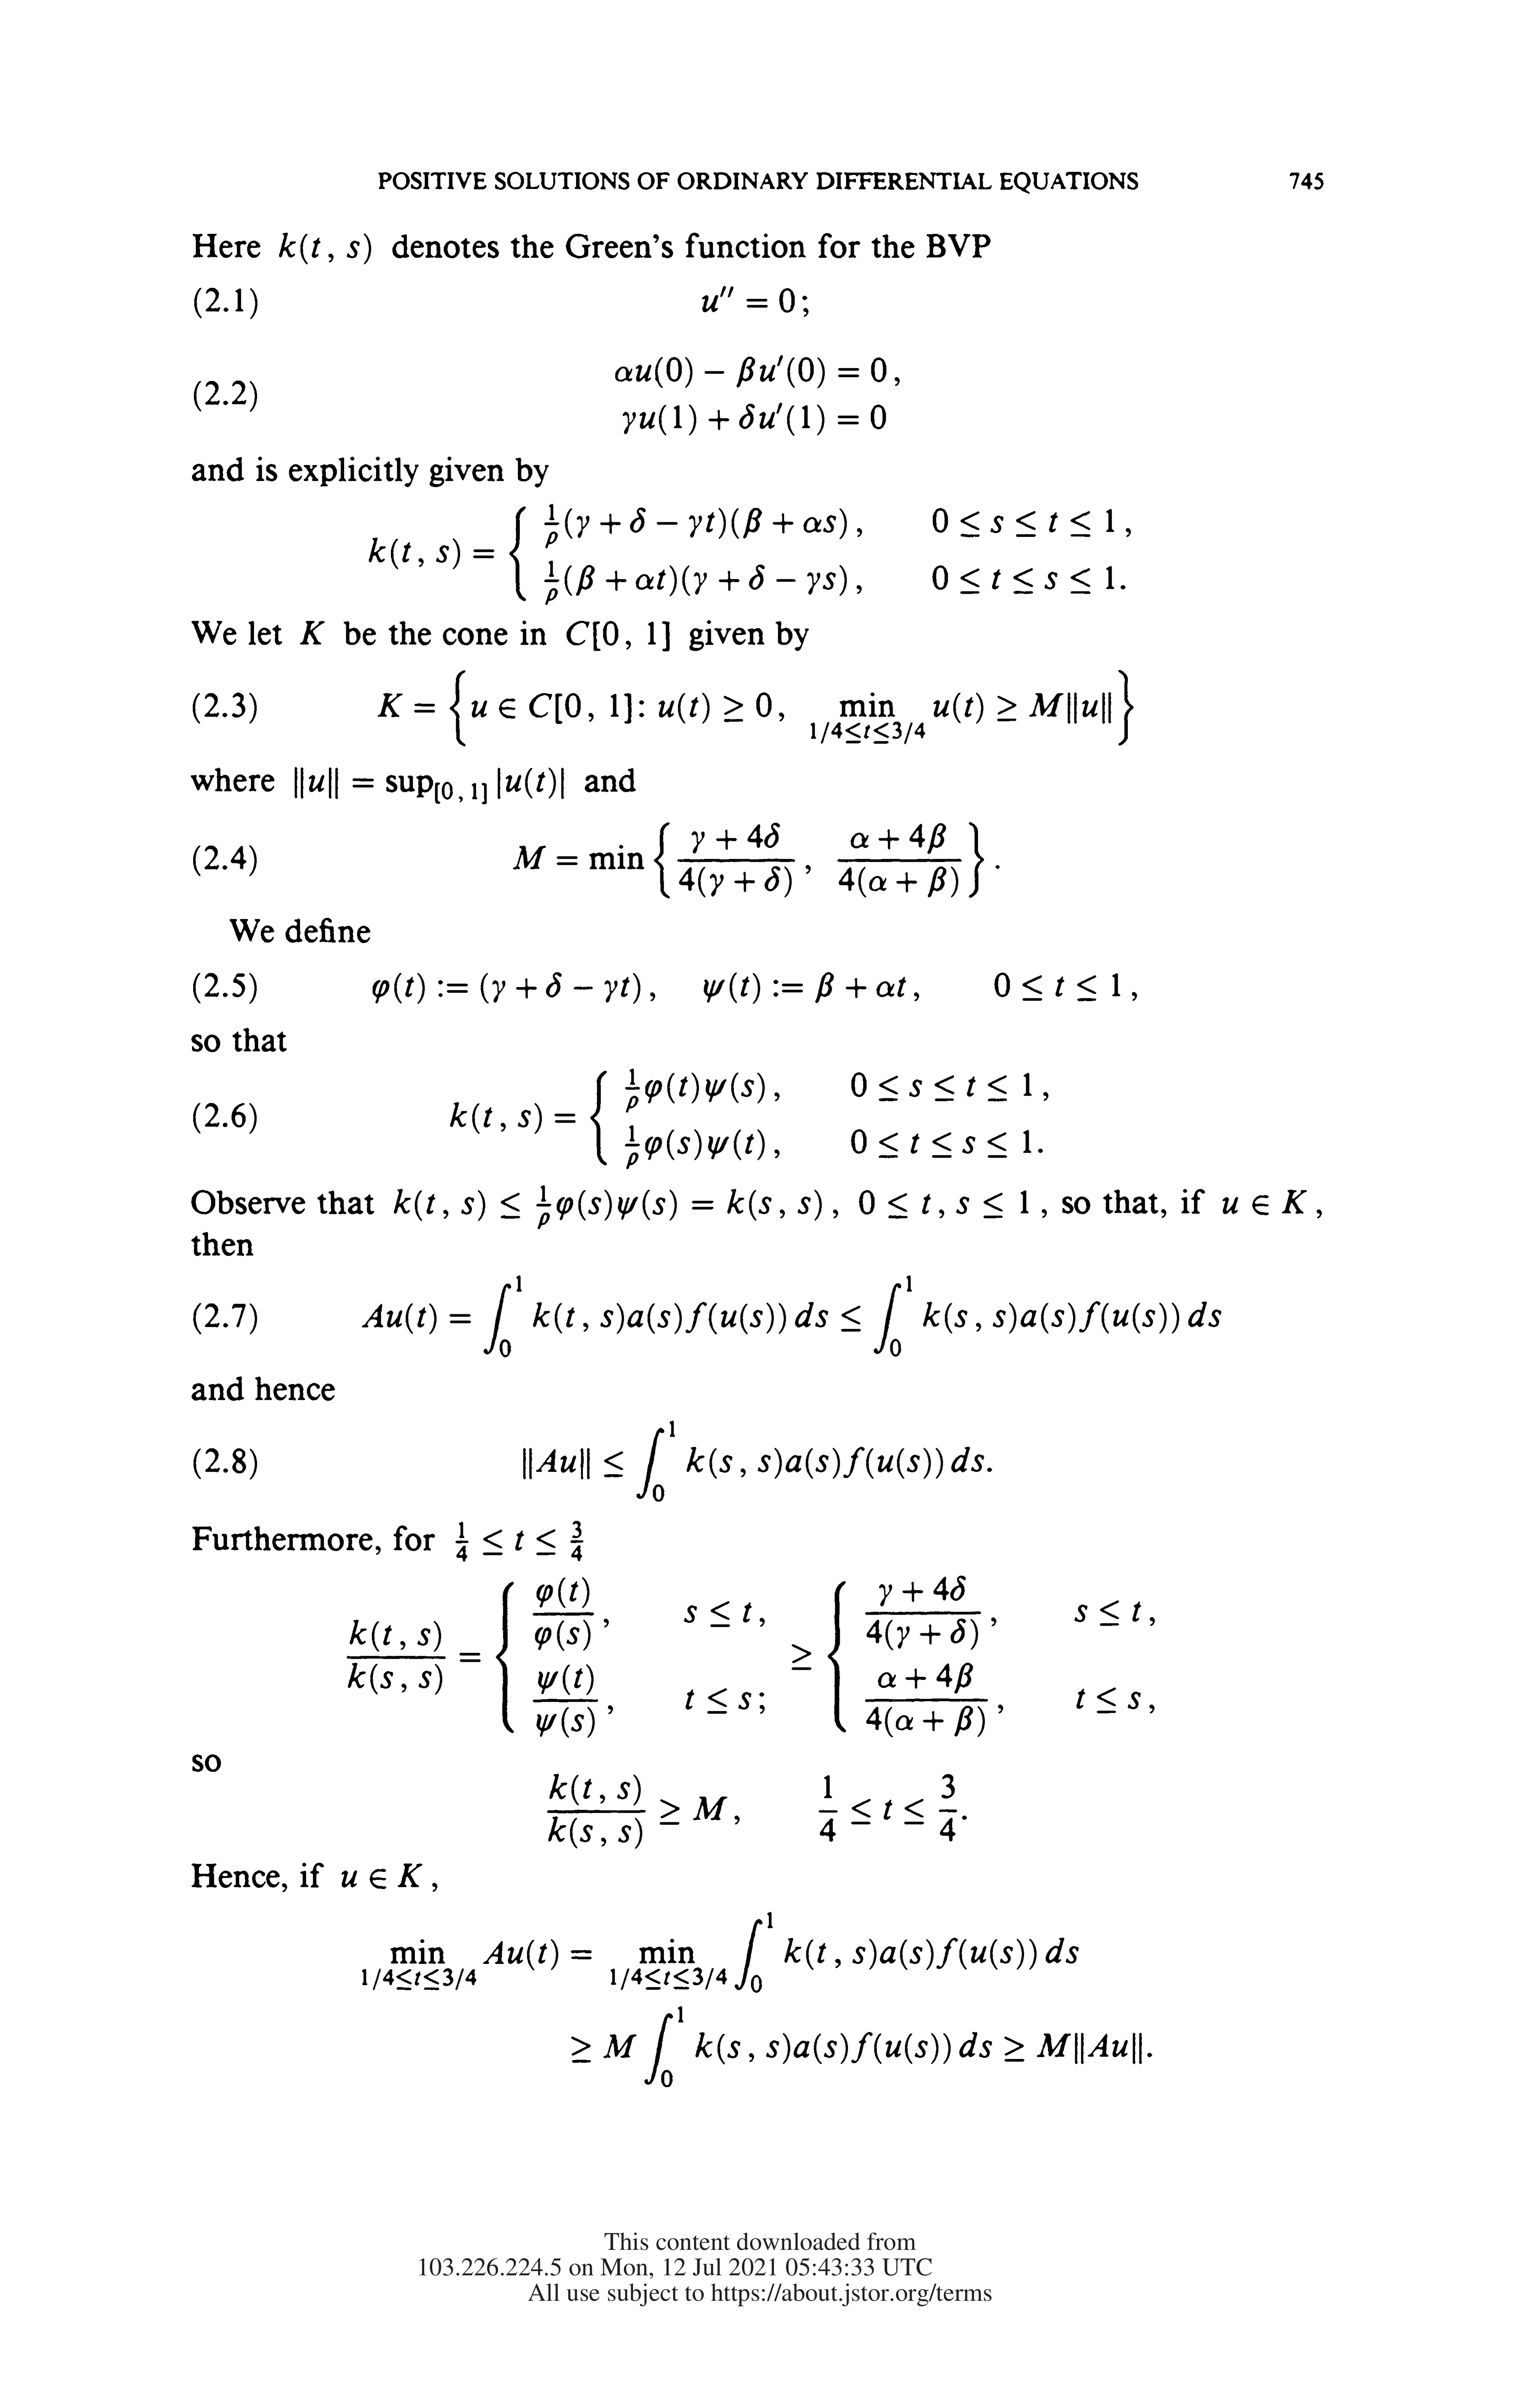maths: (347, 1576, 1155, 1737), (368, 503, 1130, 605), (405, 1276, 1221, 1356), (450, 1069, 1048, 1169), (377, 669, 1134, 747), (363, 1912, 1078, 1993), (571, 2007, 1141, 2087), (524, 1421, 983, 1502), (513, 822, 811, 897), (394, 1185, 838, 1229), (547, 1774, 727, 1849), (838, 822, 983, 897), (294, 768, 564, 804), (818, 1774, 957, 1842), (615, 356, 887, 387), (622, 403, 885, 435), (373, 973, 640, 1002), (704, 973, 906, 1002), (456, 1521, 584, 1562), (995, 973, 1120, 1001), (566, 620, 669, 650), (279, 233, 371, 265), (701, 286, 794, 312), (859, 1190, 944, 1218), (342, 1863, 422, 1889), (1223, 1190, 1307, 1215), (957, 1190, 1029, 1218), (363, 1304, 401, 1327), (300, 620, 324, 643)
